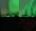slime: (0, 0, 19, 17)
